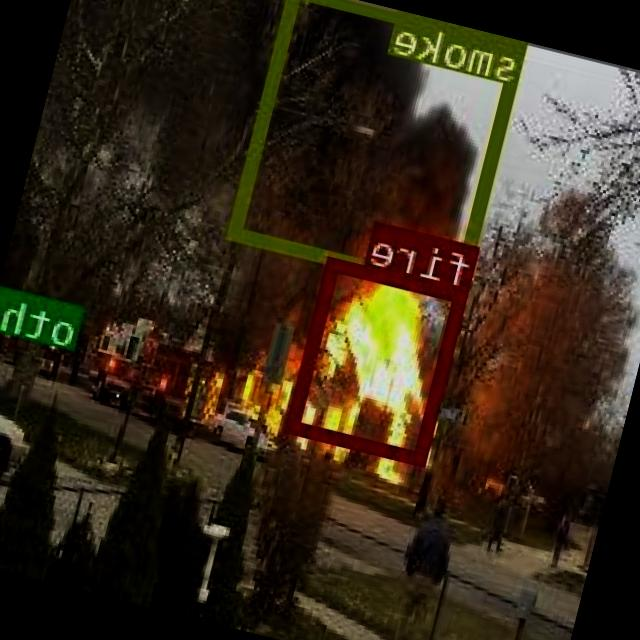fire: (288, 258, 470, 466)
smoke: (231, 0, 529, 293)
